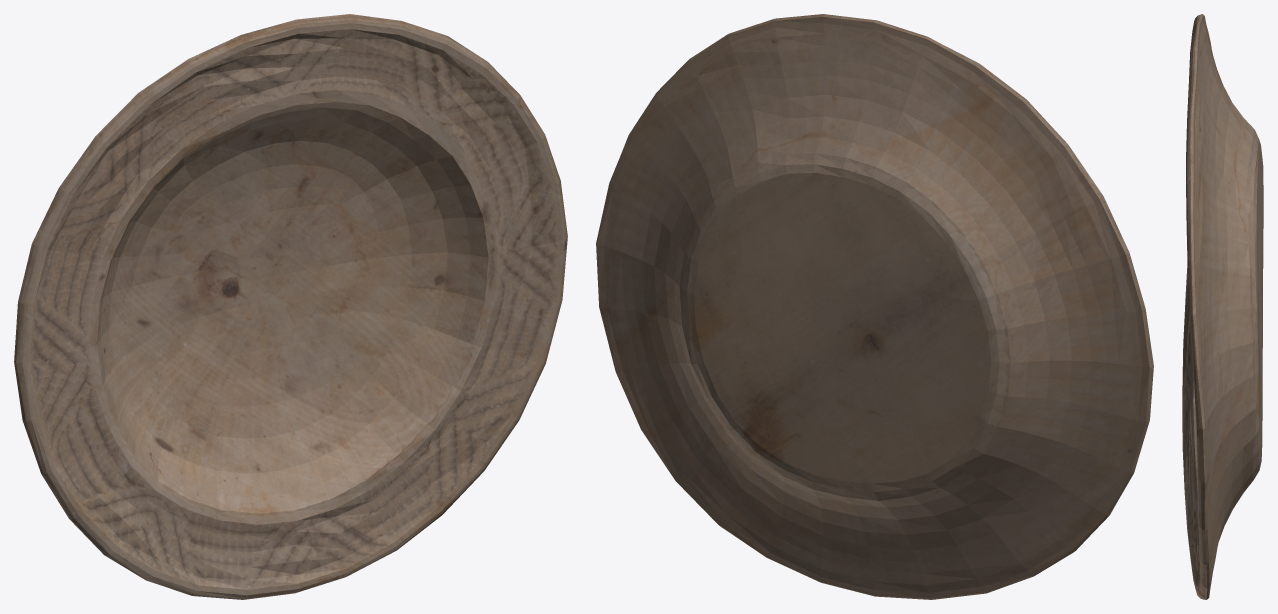
Rendered from dining_plate.obj.
3 views of the same model, side by side, from view 1: azimuth 30°, elevation 25°; view 2: azimuth 150°, elevation 25°; view 3: azimuth 270°, elevation 25° (orthographic). The views are drawn at different scales.
Visible parts, largest first — view 1: Circle.002; view 2: Circle.002; view 3: Circle.002.
Part boxes in pixels (box(x1,y1,x2,y2)): Circle.002: box(14, 14, 567, 599); Circle.002: box(596, 14, 1153, 599); Circle.002: box(1182, 14, 1263, 599).
Size of the model in its own units: 0.16 by 0.1582 by 0.0224.
Materials: 1 (1 with a texture image).
